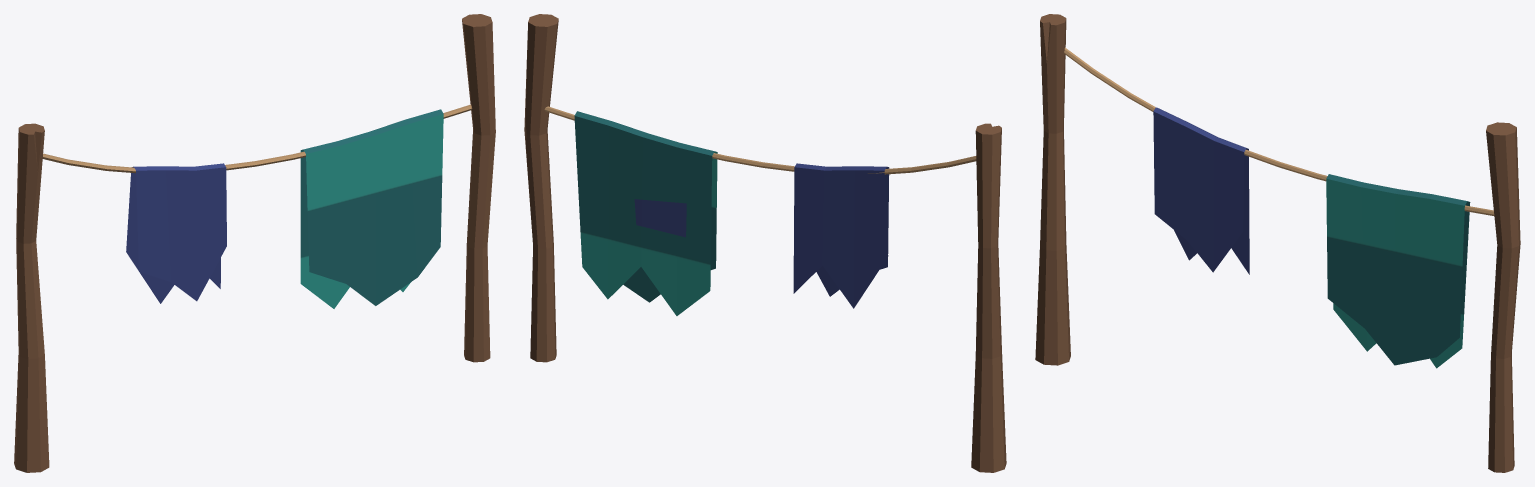
The model's file is Laundry.fbx.
3 views of the same model, side by side, from view 1: azimuth 30°, elevation 25°; view 2: azimuth 150°, elevation 25°; view 3: azimuth 330°, elevation 25° (orthographic).
Parts seen in each view (by area): view 1: Laundry; view 2: Laundry; view 3: Laundry.
Boxes of the visible parts, x1,y1,x2,y2 form: Laundry: [14, 14, 495, 472]; Laundry: [524, 14, 1006, 472]; Laundry: [1035, 14, 1520, 472].
Size of the model in its own units: 118 by 79.05 by 7.8.
